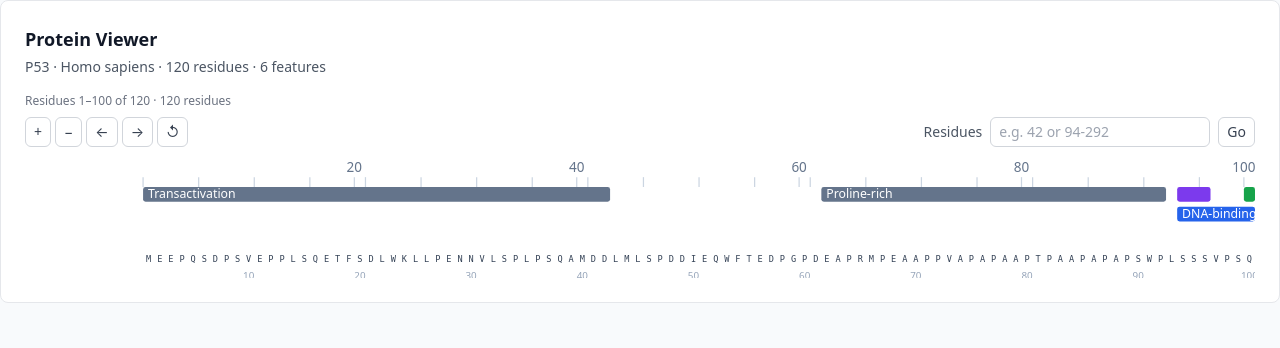
ProteinViewer › reports invalid residue input
This screenshot has width=1280, height=348.
Step 1. Type "abc" into the field labelled "Residues" → (1100, 132), box [990,117,1210,147]
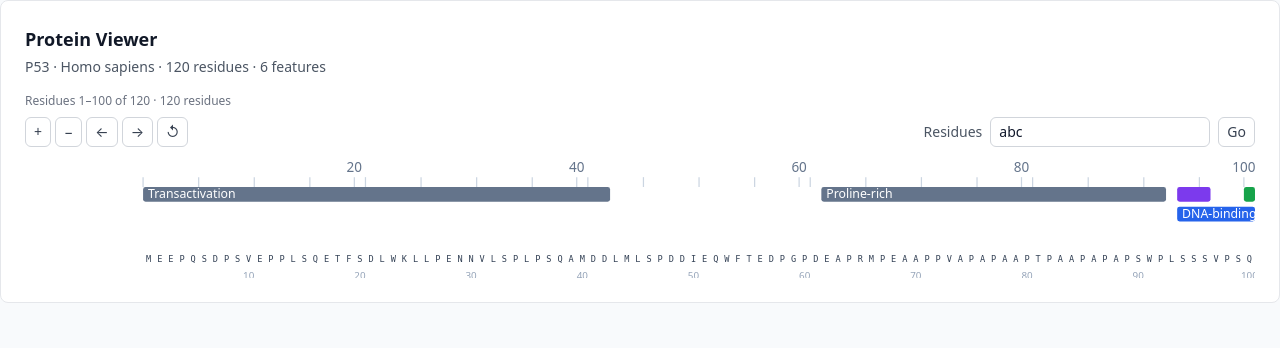
Step 2. Click the button "Go" → (1237, 132), box [1218,117,1255,147]
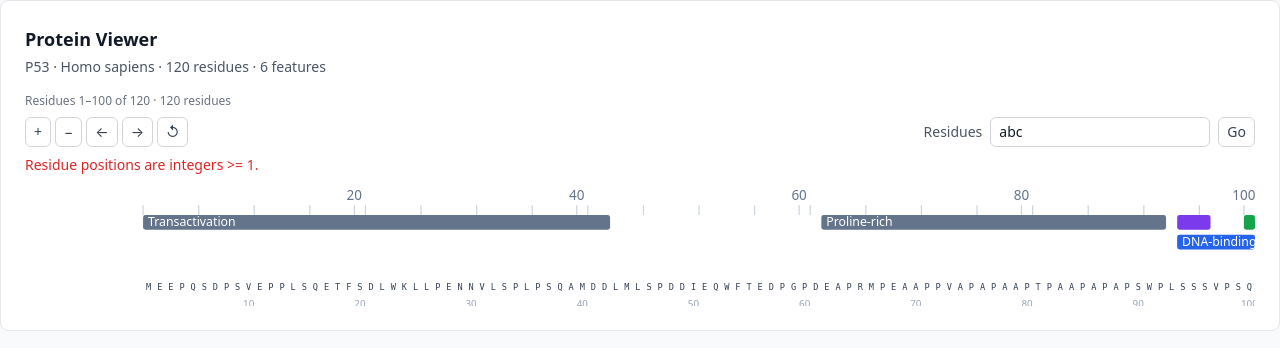
Expected: the message "Residue positions are integers >= 1." is shown, [25,155,258,174]
